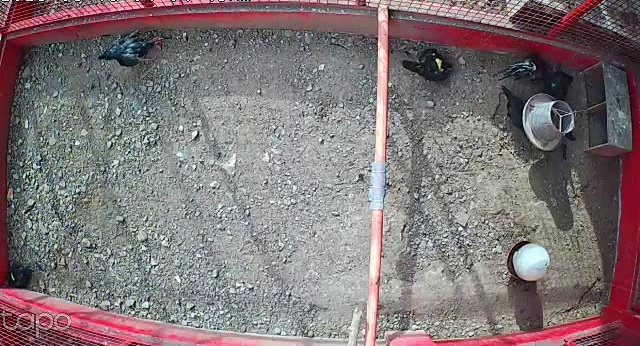Chicken: (97, 23, 166, 70), (401, 47, 452, 83), (495, 83, 528, 131), (0, 260, 36, 292)
Rooster: (498, 48, 575, 103)
Saddle_Color_Yellow: (434, 56, 444, 69)
